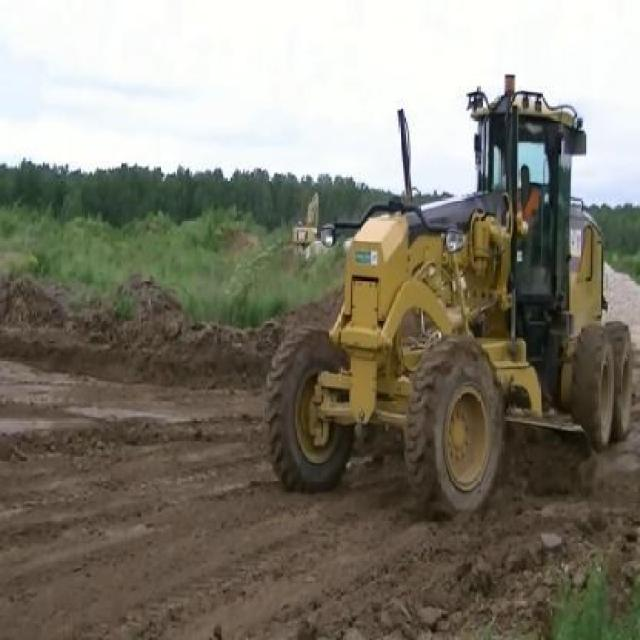excavator: (294, 191, 318, 257)
